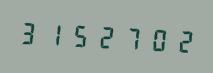five: (67, 17, 91, 52)
one: (42, 16, 66, 50)
seven: (117, 20, 141, 54)
three: (17, 15, 41, 49)
two: (92, 19, 116, 53), (167, 23, 191, 57)
zero: (142, 21, 166, 56)
